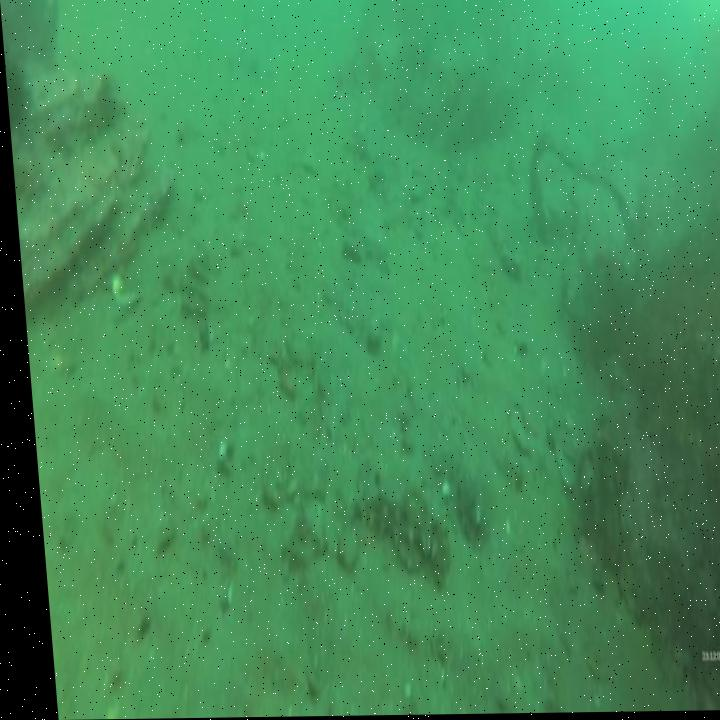holothurian: (342, 472, 446, 585)
